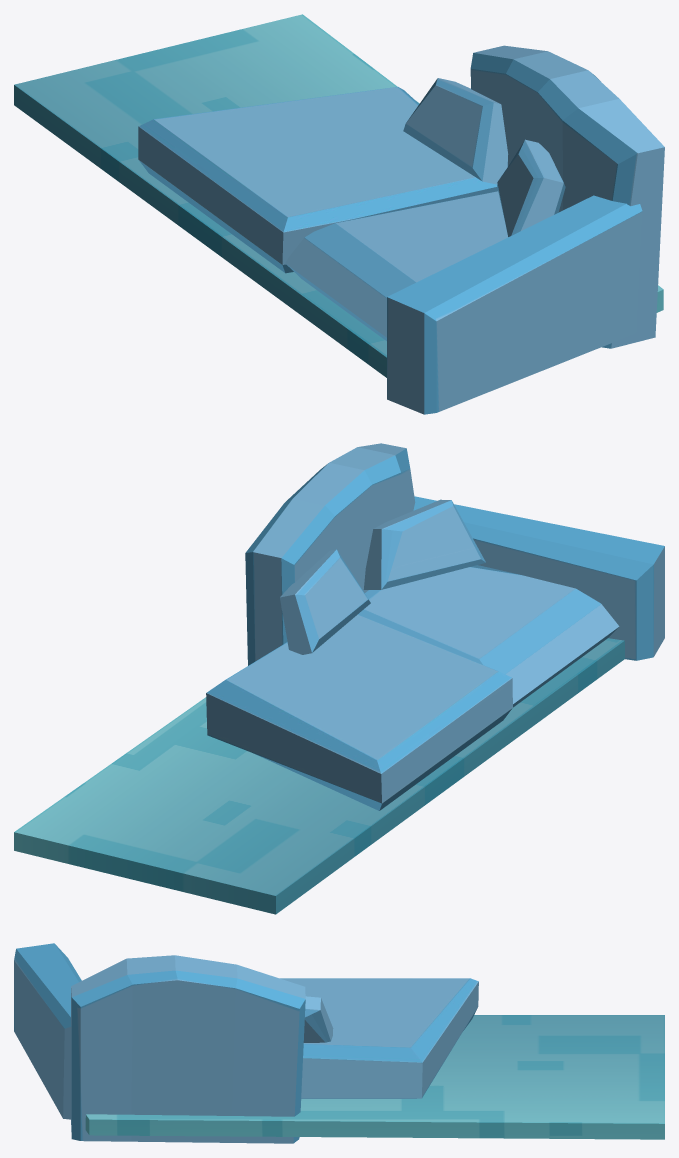
The model's file is frontCouch.FBX.
3 renders of one model, top to bottom at view 1: azimuth 30°, elevation 25°; view 2: azimuth 150°, elevation 25°; view 3: azimuth 270°, elevation 25°, orthographic. The views are drawn at different scales.
Visible parts, largest first — view 1: couch_front; view 2: couch_front; view 3: couch_front.
Boxes of the visible parts, x1=… form: couch_front: x1=14, y1=14, x2=664, y2=414; couch_front: x1=14, y1=443, x2=664, y2=914; couch_front: x1=14, y1=943, x2=664, y2=1143.
Size of the model in its own units: 111 by 74.99 by 261.
6 materials, 6 textured.
